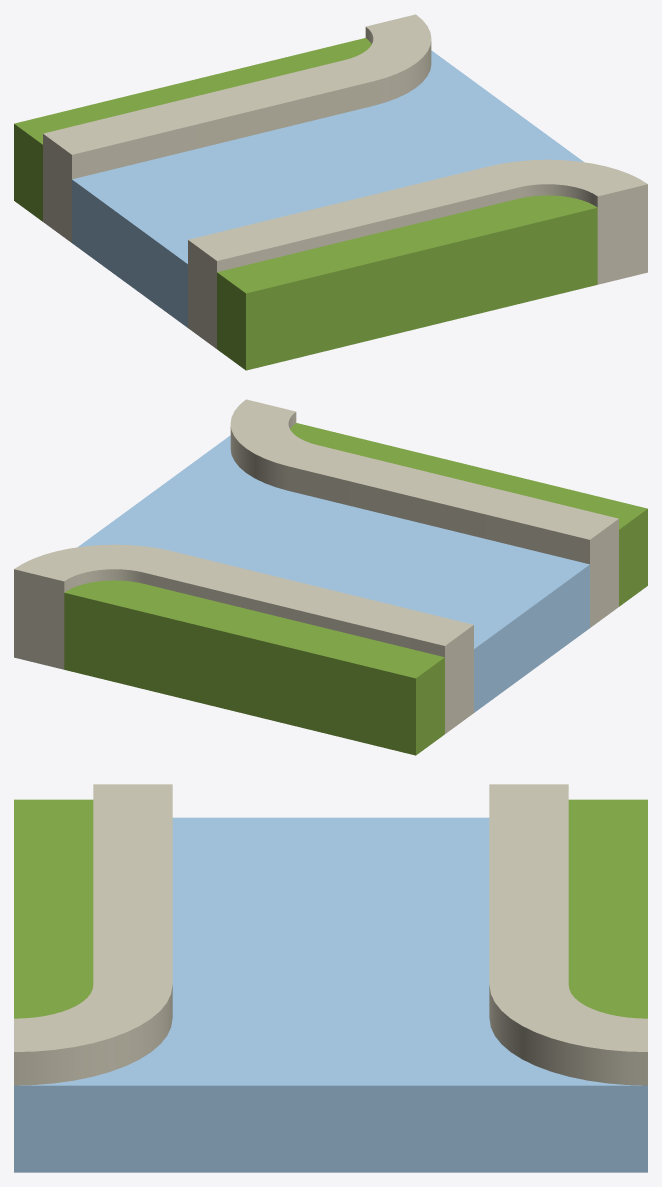
Rendered from roadTile_242.fbx.
3 views of the same model, one above another, from view 1: azimuth 30°, elevation 25°; view 2: azimuth 150°, elevation 25°; view 3: azimuth 270°, elevation 25° (orthographic). The views are drawn at different scales.
Parts seen in each view (by area): view 1: roadTile_242; view 2: roadTile_242; view 3: roadTile_242.
Boxes of the visible parts, x1,y1,x2,y2 form: roadTile_242: (14, 14, 647, 370); roadTile_242: (14, 399, 647, 755); roadTile_242: (14, 784, 647, 1172).
Size of the model in its own units: 118 by 24.8 by 118.
